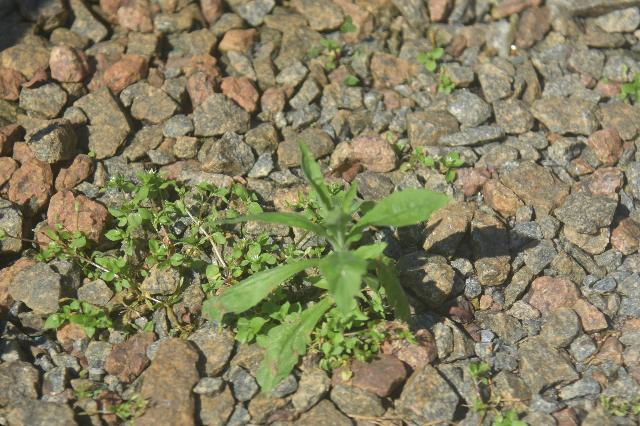MalezaMontesDelPlata: (205, 135, 449, 391), (11, 166, 268, 334), (302, 16, 367, 87), (410, 26, 459, 100)
